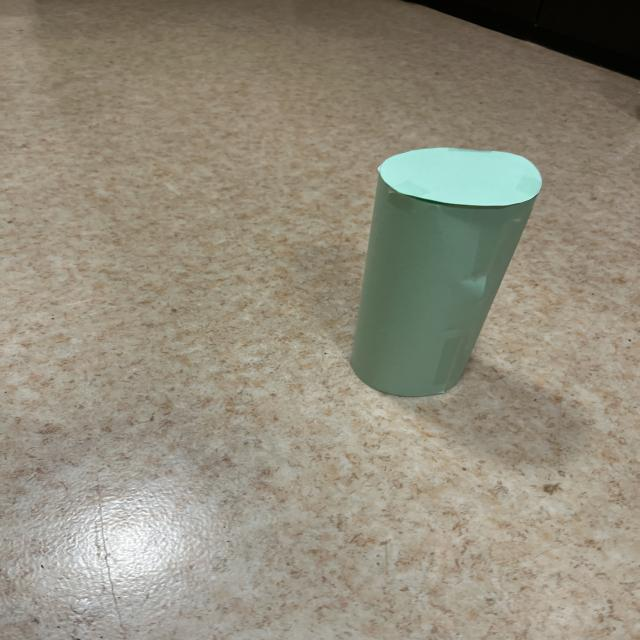meta: (351, 148, 542, 396)
